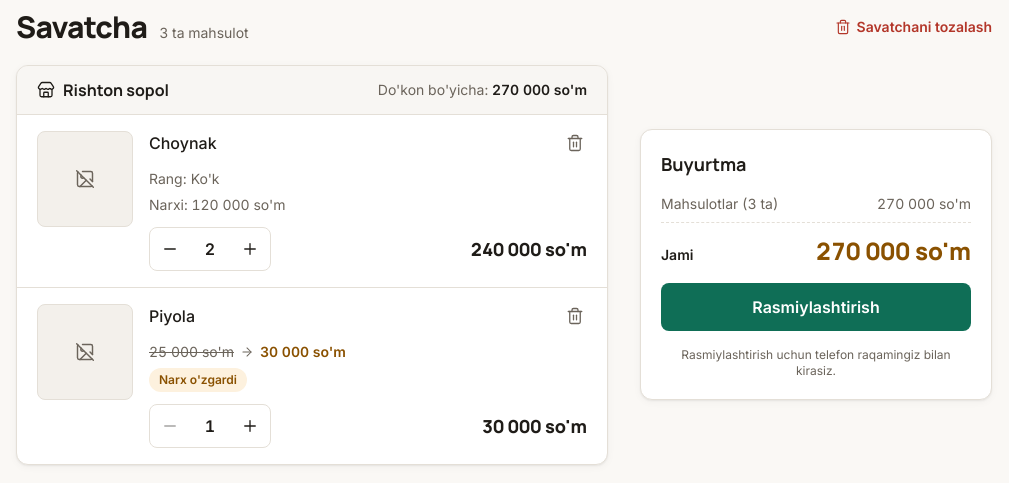
Test: CartPage › changes the quantity and shows the cart the server returns
The image size is (1009, 483).
What coordinates should you click on to do the following:
click the button named "Ko'paytirish" in the row of "240 000 so'm"
I would click on:
 (250, 249)
Its box is [230, 229, 270, 269].
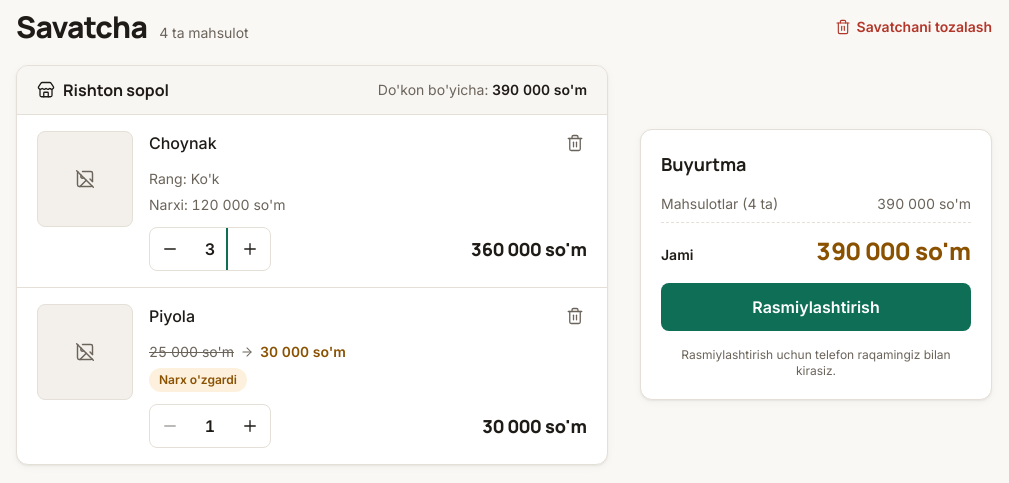
Result: the text "390 000 so'm" next to "Do'kon bo'yicha" is shown at [492, 81, 587, 98]
Result: the number field named "Choynak: soni" holds "3" at [190, 228, 230, 270]
Result: the text with test id "line-total" reads "360 000 so'm" at [471, 237, 587, 261]
